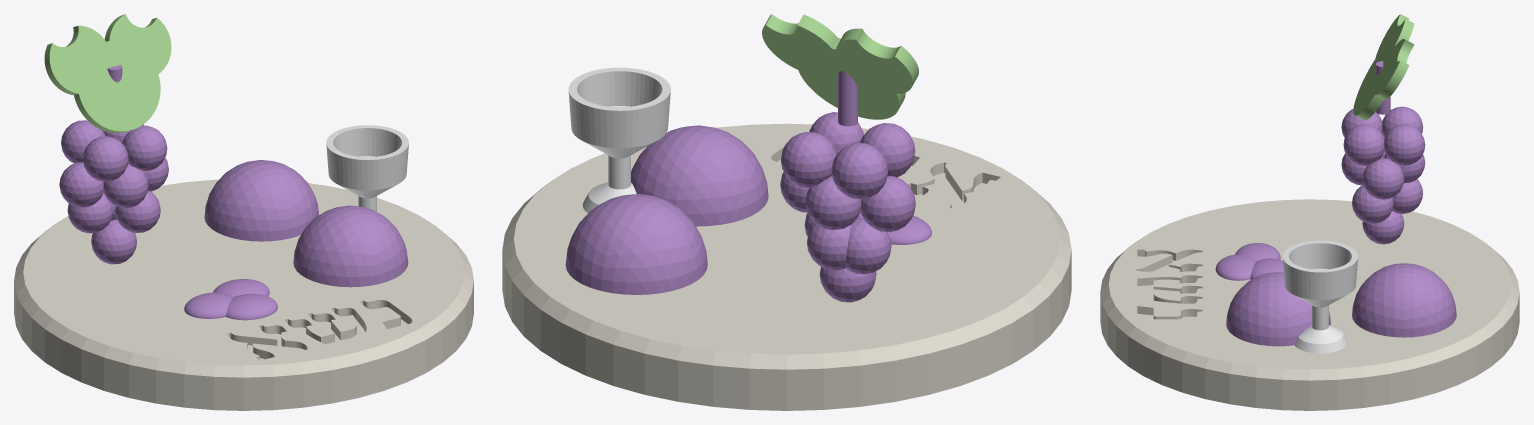
File: naso.glb
The picture shows the model from 3 angles, left to right: view 1: azimuth 30°, elevation 25°; view 2: azimuth 150°, elevation 25°; view 3: azimuth 270°, elevation 25°; orthographic projection. The views are drawn at different scales.
Parts seen in each view (by area): view 1: stage, cluster, leaf, grape-skin, grape-half, cup, pressed; view 2: stage, cluster, grape-half, grape-skin, cup, leaf, pressed; view 3: stage, cluster, grape-half, cup, grape-skin, leaf, pressed.
Part boxes in pixels (bbox=[...]): stage: bbox=[14, 179, 473, 410]; cluster: bbox=[59, 65, 168, 264]; leaf: bbox=[44, 14, 171, 132]; grape-skin: bbox=[293, 205, 408, 287]; grape-half: bbox=[204, 160, 318, 241]; cup: bbox=[326, 125, 408, 211]; pressed: bbox=[184, 279, 277, 320]; stage: bbox=[502, 123, 1071, 410]; cluster: bbox=[780, 71, 915, 302]; grape-half: bbox=[565, 194, 707, 294]; grape-skin: bbox=[631, 125, 768, 226]; cup: bbox=[568, 67, 670, 212]; leaf: bbox=[762, 14, 918, 119]; pressed: bbox=[859, 212, 931, 244]; stage: bbox=[1100, 199, 1519, 410]; cluster: bbox=[1341, 61, 1425, 244]; grape-half: bbox=[1352, 263, 1456, 337]; cup: bbox=[1282, 240, 1358, 353]; grape-skin: bbox=[1226, 272, 1330, 346]; leaf: bbox=[1353, 14, 1414, 120]; pressed: bbox=[1215, 243, 1283, 280].
Bounding box in the file's own units: 40 × 26.64 × 40.
